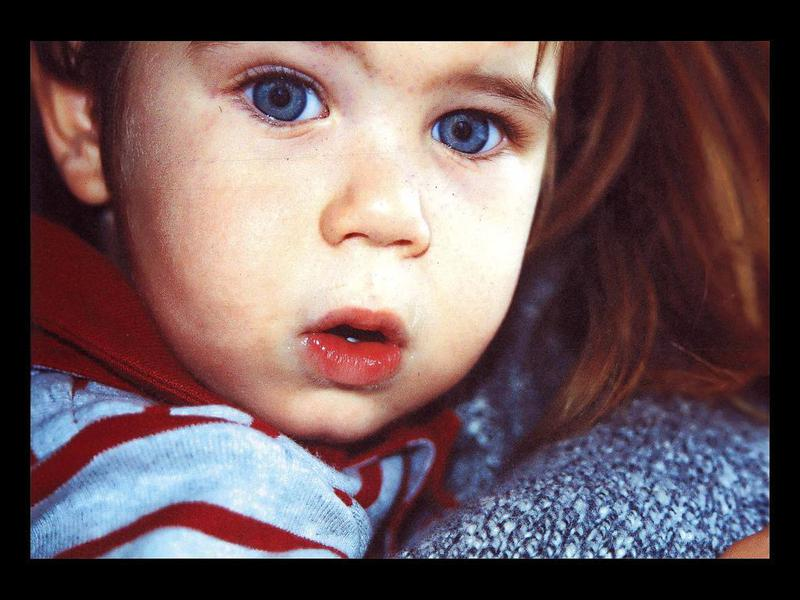person: (31, 42, 563, 557)
